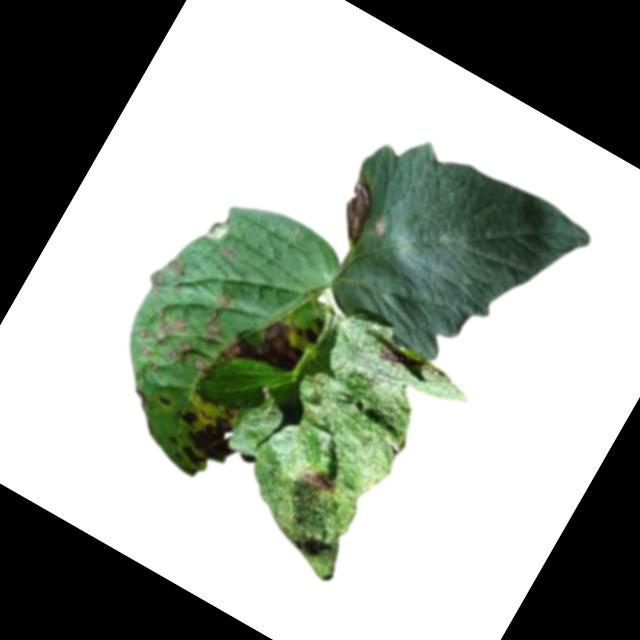Early_blight: (217, 291, 324, 396), (167, 399, 250, 480), (325, 170, 392, 248), (194, 292, 238, 349), (294, 461, 341, 500), (155, 308, 189, 342), (164, 336, 194, 366), (375, 340, 403, 365), (153, 387, 176, 409), (187, 355, 209, 374)
